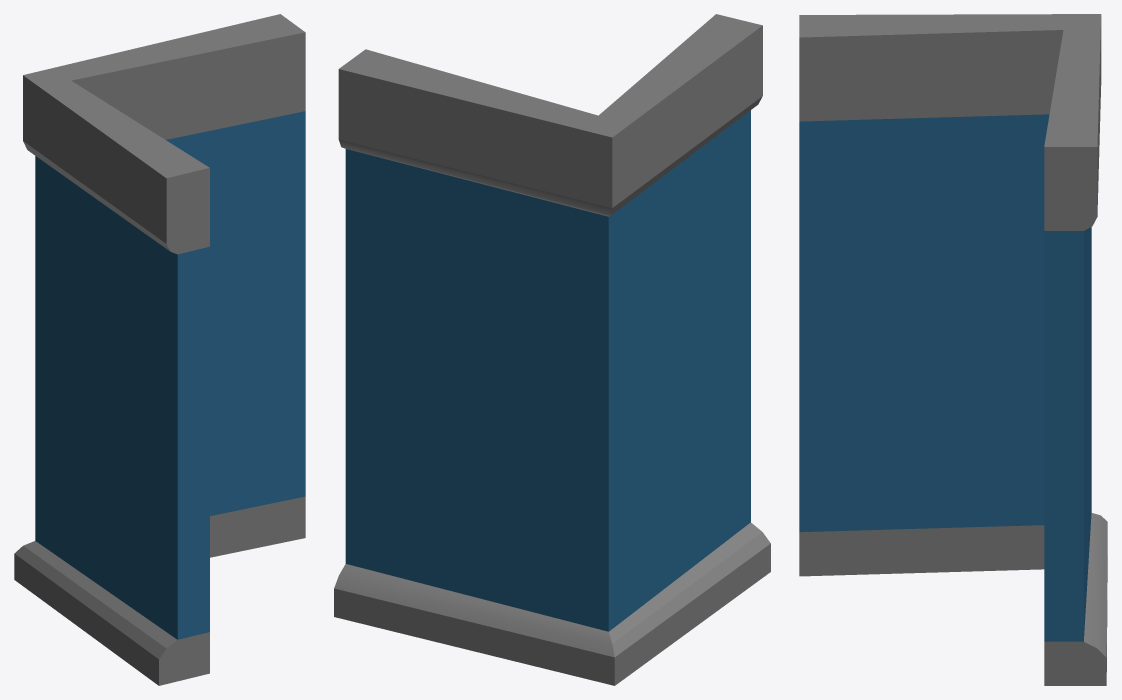
The model's file is Wall3_Base_Cornor.fbx.
3 views of the same model, side by side, from view 1: azimuth 30°, elevation 25°; view 2: azimuth 150°, elevation 25°; view 3: azimuth 270°, elevation 25° (orthographic). The views are drawn at different scales.
Parts seen in each view (by area): view 1: Wall001_Base_Cornor; view 2: Wall001_Base_Cornor; view 3: Wall001_Base_Cornor.
Part boxes in pixels (bbox=[...]): Wall001_Base_Cornor: bbox=[14, 14, 305, 685]; Wall001_Base_Cornor: bbox=[334, 14, 770, 685]; Wall001_Base_Cornor: bbox=[799, 14, 1107, 685].
Size of the model in its own units: 63.89 by 118 by 61.27.
